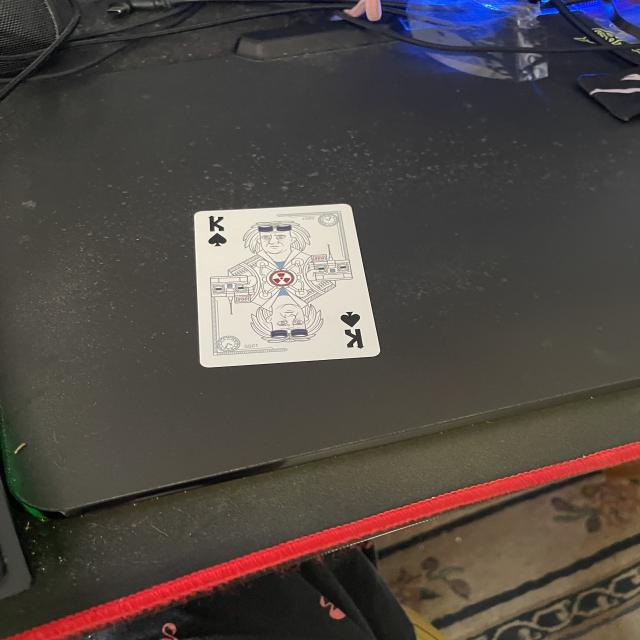King of spades: (196, 205, 379, 366)
